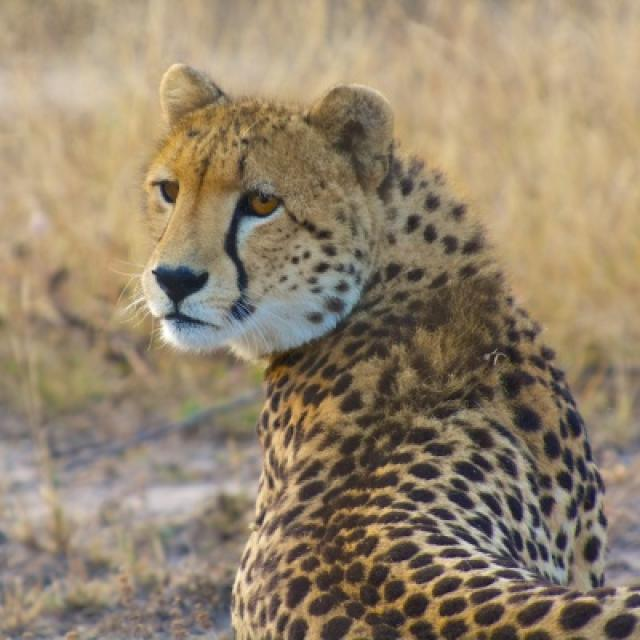Cheetah: (134, 64, 638, 638)
